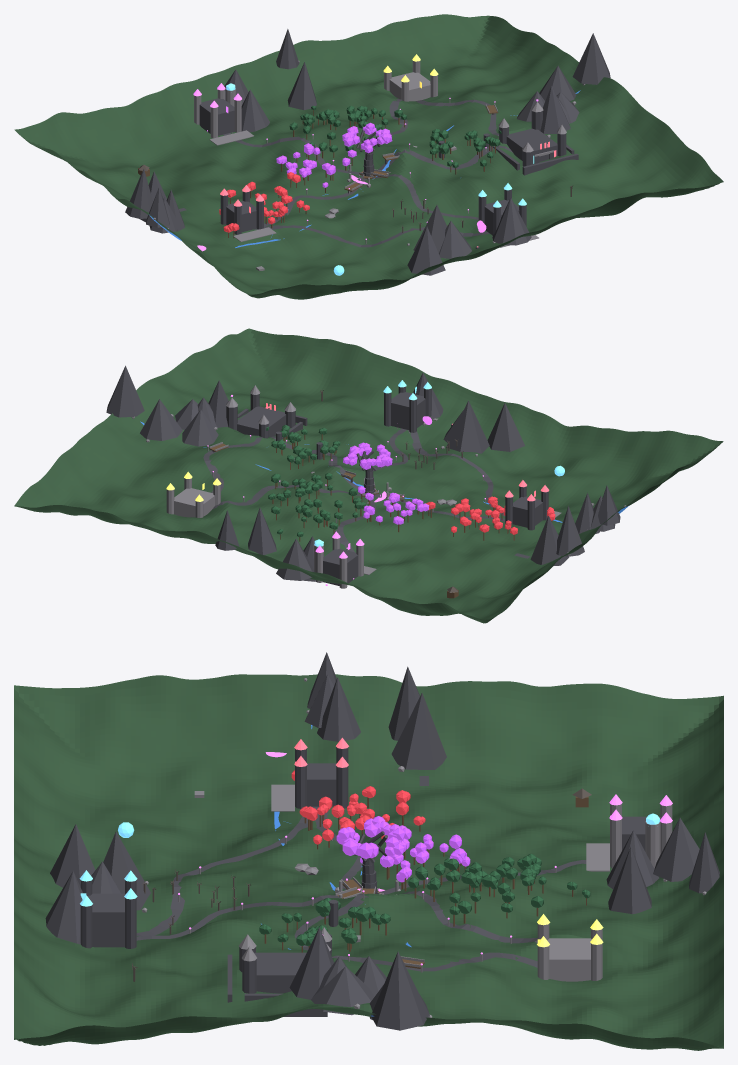
The model's file is world.glb.
3 views of the same model, one above another, from view 1: azimuth 30°, elevation 25°; view 2: azimuth 150°, elevation 25°; view 3: azimuth 270°, elevation 25° (orthographic). The views are drawn at different scales.
Visible parts, largest first — view 1: WORLD_Terrain, MTN_Cluster1_05, MTN_Cluster3_02, INFINITY_MainHall, MTN_Cluster3_05, DANKI_Keep, MS_Keep, MTN_Cluster1_04, MTN_Cluster0_04, MTN_Cluster0_01, MTN_Cluster2_01, MTN_Cluster3_04 (+7 smaller); view 2: WORLD_Terrain, MTN_Cluster3_01, MTN_Cluster1_05, MTN_Cluster3_05, MTN_Cluster1_02, INFINITY_MainHall, CNX_Keep, MTN_Cluster2_04, MS_Keep, MTN_Cluster1_00, DANKI_Keep, MTN_Cluster0_02 (+8 smaller); view 3: WORLD_Terrain, MTN_Cluster1_05, MTN_Cluster2_04, CNX_Keep, MS_Keep, MTN_Cluster0_02, MTN_Cluster0_04, INFINITY_MainHall, MTN_Cluster3_02, MTN_Cluster1_04, MTN_Cluster1_01, MTN_Cluster2_05 (+14 smaller).
Boxes of the visible parts, x1,y1,x2,y2 form: WORLD_Terrain: (14, 14, 723, 299); MTN_Cluster1_05: (572, 33, 610, 84); MTN_Cluster3_02: (492, 197, 531, 245); INFINITY_MainHall: (506, 128, 557, 161); MTN_Cluster3_05: (407, 226, 445, 275); DANKI_Keep: (199, 98, 234, 135); MS_Keep: (389, 72, 430, 101); MTN_Cluster1_04: (540, 85, 570, 133); MTN_Cluster0_04: (287, 62, 316, 110); MTN_Cluster0_01: (241, 89, 269, 132); MTN_Cluster2_01: (125, 168, 152, 218); MTN_Cluster3_04: (439, 221, 471, 258); WORLD_Terrain: (14, 328, 723, 623); MTN_Cluster3_01: (446, 400, 489, 453); MTN_Cluster1_05: (106, 365, 144, 417); MTN_Cluster3_05: (487, 403, 524, 451); MTN_Cluster1_02: (140, 399, 182, 440); INFINITY_MainHall: (237, 406, 286, 436); CNX_Keep: (391, 392, 425, 429); MTN_Cluster2_04: (530, 515, 569, 566); MS_Keep: (174, 488, 214, 517); MTN_Cluster1_00: (182, 409, 218, 446); DANKI_Keep: (323, 548, 358, 585); MTN_Cluster0_02: (276, 538, 314, 580); WORLD_Terrain: (14, 674, 723, 1050); MTN_Cluster1_05: (371, 951, 429, 1030); MTN_Cluster2_04: (391, 693, 446, 769); CNX_Keep: (87, 893, 125, 947); MS_Keep: (547, 938, 591, 981); MTN_Cluster0_02: (653, 818, 699, 881); MTN_Cluster0_04: (608, 846, 651, 914); INFINITY_MainHall: (254, 952, 306, 993); MTN_Cluster3_02: (45, 871, 82, 943); MTN_Cluster1_04: (289, 927, 333, 999); MTN_Cluster1_01: (311, 966, 374, 1015); MTN_Cluster2_05: (317, 677, 360, 741).
Size of the model in its own units: 144 by 28.17 by 120.
